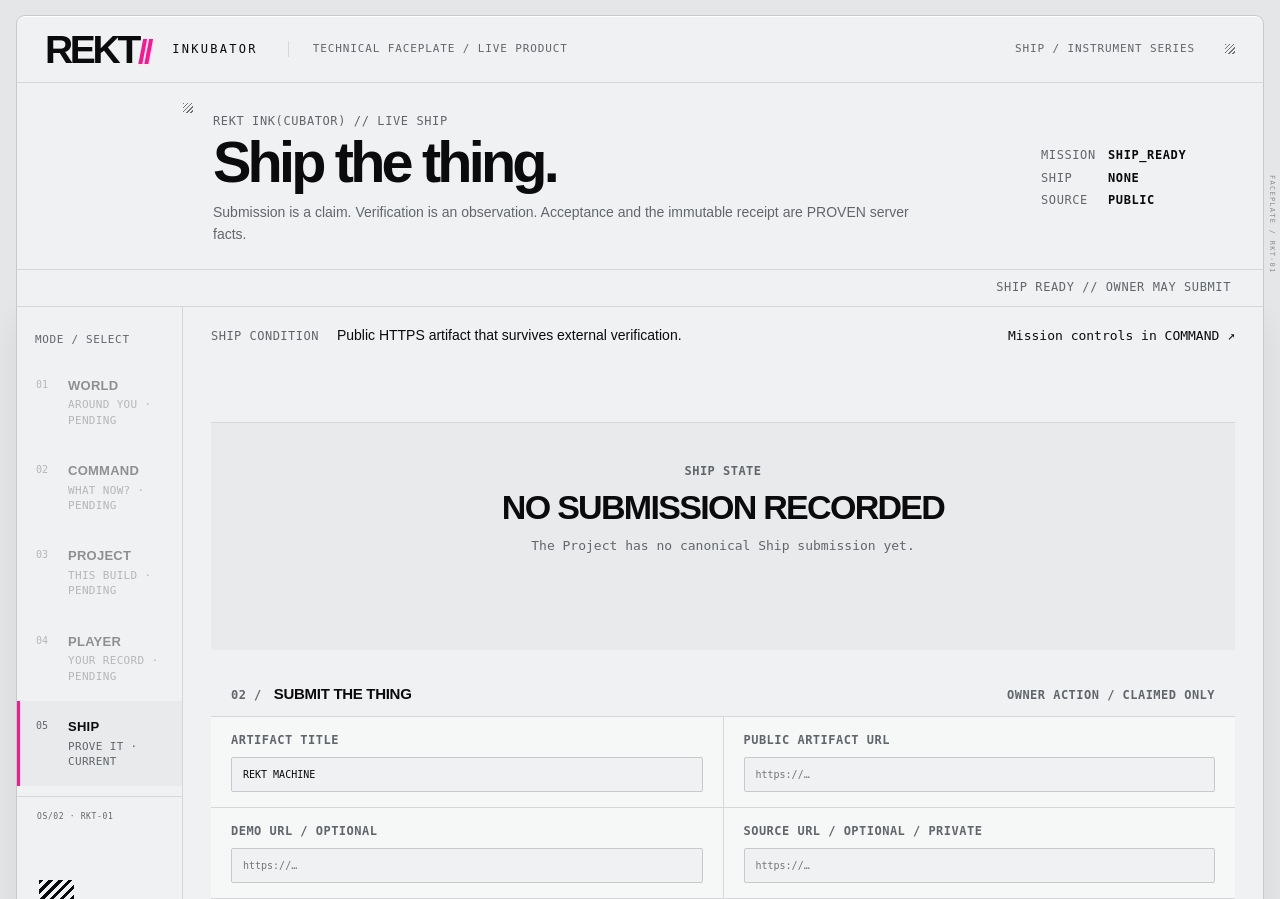
Test: Live SHIP › submits only a valid SHIP_READY HTTPS artifact and preserves one request id across the unchanged attempt
This screenshot has width=1280, height=899.
expect the heading "Ship the thing." is shown: met, box [213,130,556,194]
expect the text "NO SUBMISSION RECORDED" is shown: met, box [502,488,944,526]
Type "https://example.com/rekt" into the field labelled "PUBLIC ARTIFACT URL" at (979, 774), box [744,757,1215,792]
(page scrolled)
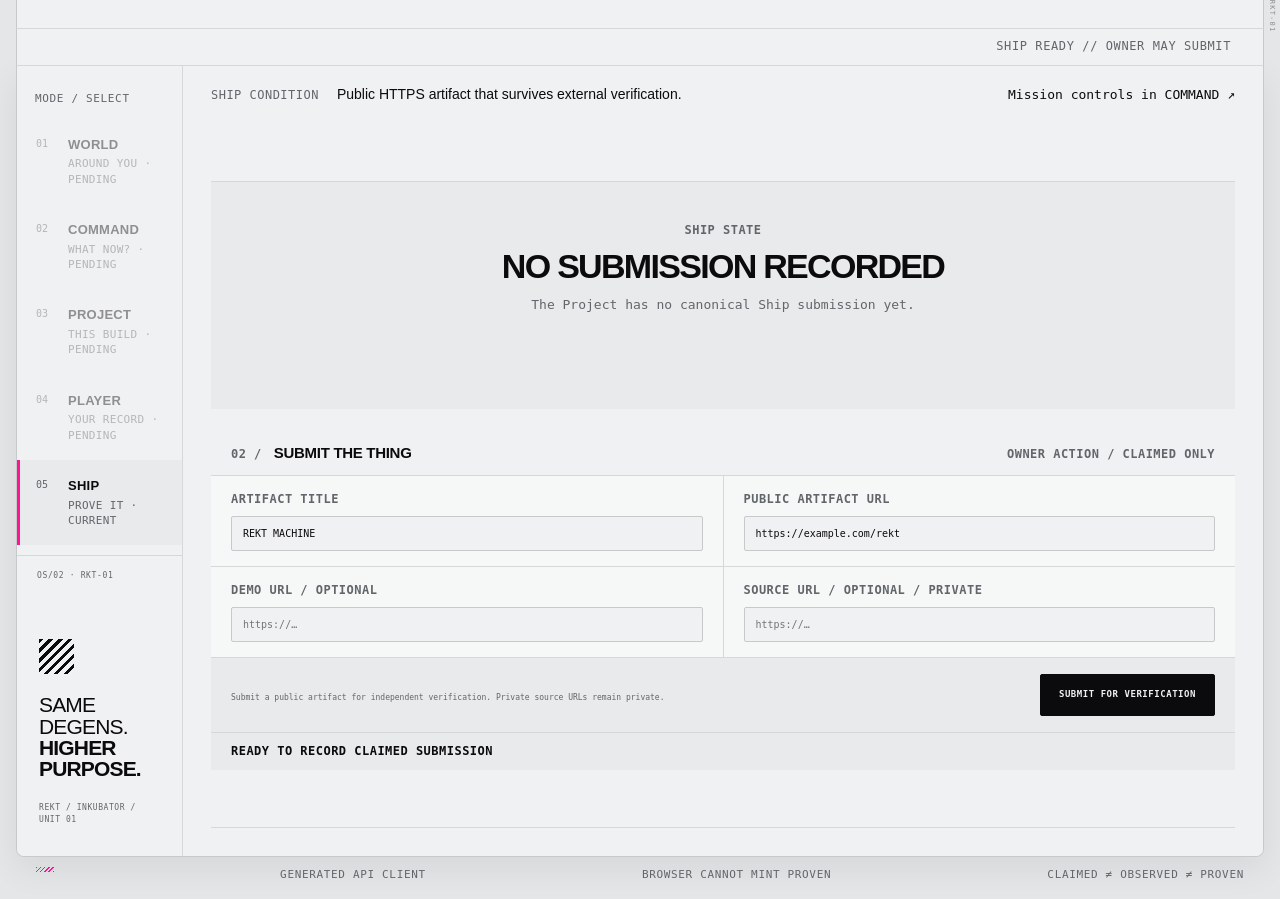
expect the button "SUBMIT FOR VERIFICATION" is enabled: met
Click the button "SUBMIT FOR VERIFICATION" at (1128, 695), box [1040,674,1215,716]
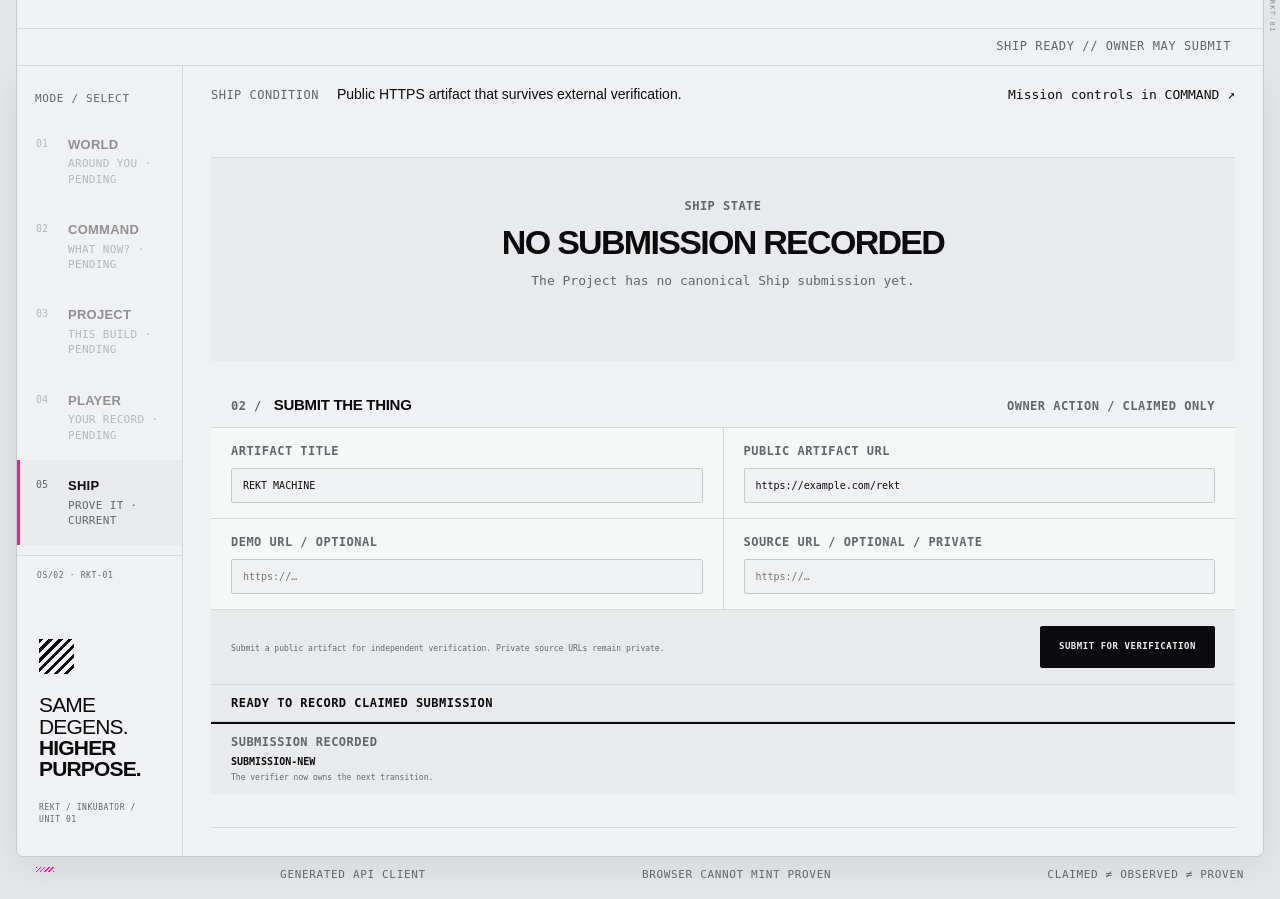
expect the text "SUBMISSION-NEW" is shown: met, box [231,756,315,767]
